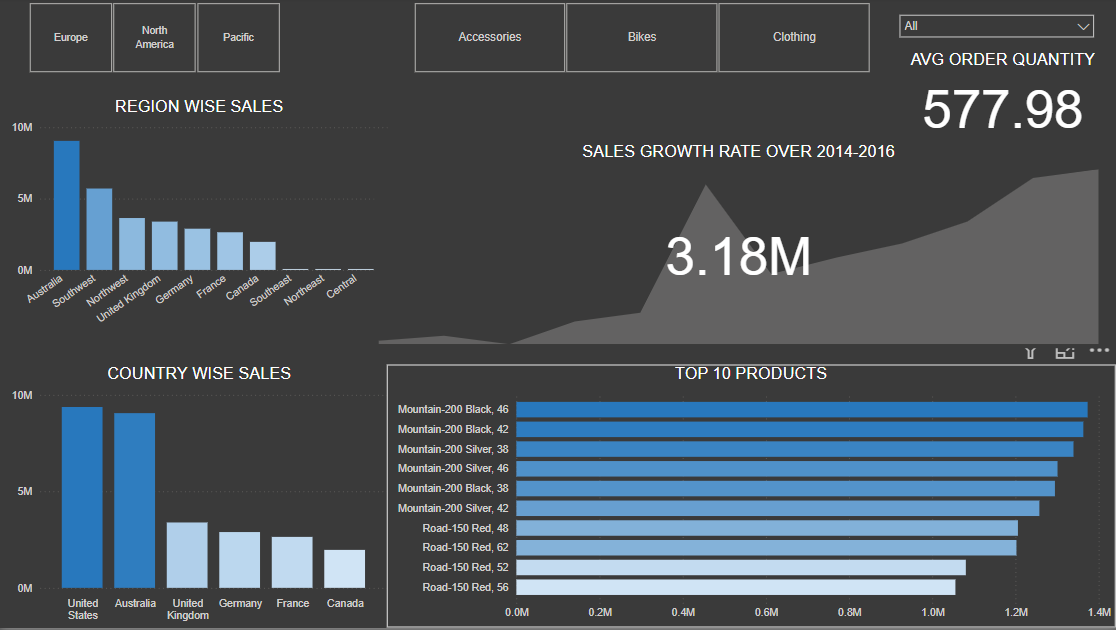

Layout of this report page (visuals, bound fields, positions):
{"tool":"powerbi","page":{"name":"Sales Performance by Product and Region","canvas":[1280,720],"ordinal":1},"visuals":[{"type":"clusteredColumnChart","title":"REGION WISE SALES","fields":{"Category":["Region_wise_sales.Region"],"Y":["Sum(Region_wise_sales.Sales_sum)"]},"box":[10,114,439,279.4],"z":0},{"type":"clusteredColumnChart","title":"COUNTRY WISE SALES","fields":{"Category":["Region_wise_sales.Country"],"Y":["Sum(Region_wise_sales.Sales_sum)"]},"box":[9.6,418.5,439.1,301.9],"z":1000},{"type":"slicer","fields":{"Values":["Region_wise_sales.Group"]},"box":[10,0,335,92.7],"z":2000},{"type":"clusteredBarChart","title":"TOP 10 PRODUCTS","fields":{"Y":["Sum(Product_wise_total_sales.sales_sum)"],"Category":["Product_wise_total_sales.ProductName"]},"box":[443.3,419.1,831,299.3],"z":3000},{"type":"slicer","fields":{"Values":["Product_wise_total_sales.Category"]},"box":[449,0,568.7,92.7],"z":4000},{"type":"kpi","title":"SALES GROWTH RATE OVER 2014-2016","fields":{"Indicator":["Sum(date_wise_sales.sales_sum)"],"TrendLine":["date_wise_sales.month-year.Variation.Date Hierarchy.Month"]},"box":[429,165.3,831,235.2],"z":5000},{"type":"card","title":"AVG ORDER QUANTITY","fields":{"Values":["Avg(avg_order_product_wise.TotalQuantity)"]},"box":[1017.7,61.3,256.6,104.1],"z":6000},{"type":"slicer","fields":{"Values":["avg_order_product_wise.Category"]},"box":[1017.7,10,242.3,51.3],"z":7000}]}

Visuals, with their boxes in screenshot pixels (x1, y1, x2, y2), scaled from the page's 1280x720 canvas onto the 1116x630 screenshot:
"REGION WISE SALES" clusteredColumnChart: [9,100,391,344]
"COUNTRY WISE SALES" clusteredColumnChart: [8,366,391,629]
slicer - Region_wise_sales.Group: [9,0,301,81]
"TOP 10 PRODUCTS" clusteredBarChart: [387,367,1111,629]
slicer - Product_wise_total_sales.Category: [391,0,887,81]
"SALES GROWTH RATE OVER 2014-2016" kpi: [374,145,1099,350]
"AVG ORDER QUANTITY" card: [887,54,1111,145]
slicer - avg_order_product_wise.Category: [887,9,1099,54]
